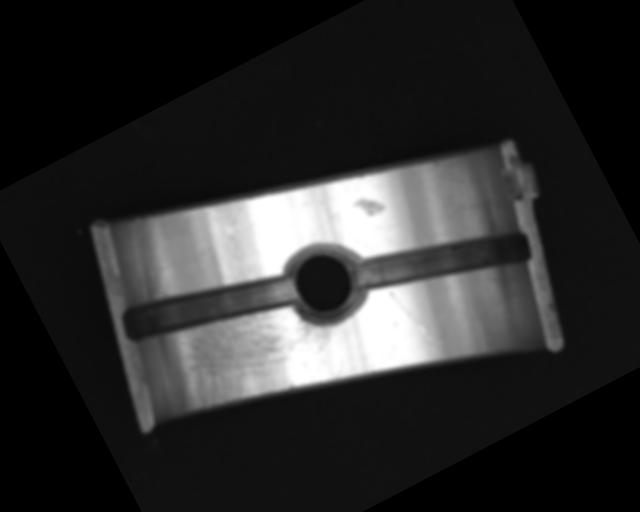bruise: (352, 189, 389, 224)
gap: (350, 187, 535, 332), (115, 234, 300, 376)
hole: (273, 229, 377, 337)
nick: (387, 284, 432, 348)
scratch: (149, 262, 354, 446)
